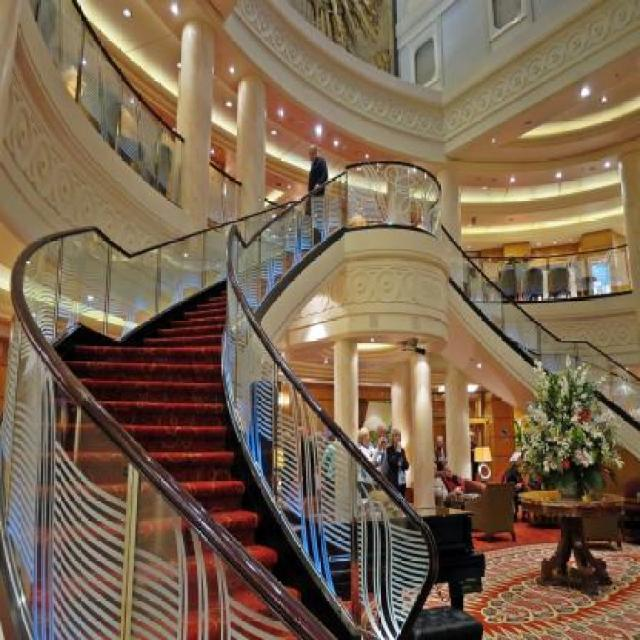stair: (0, 250, 311, 638)
